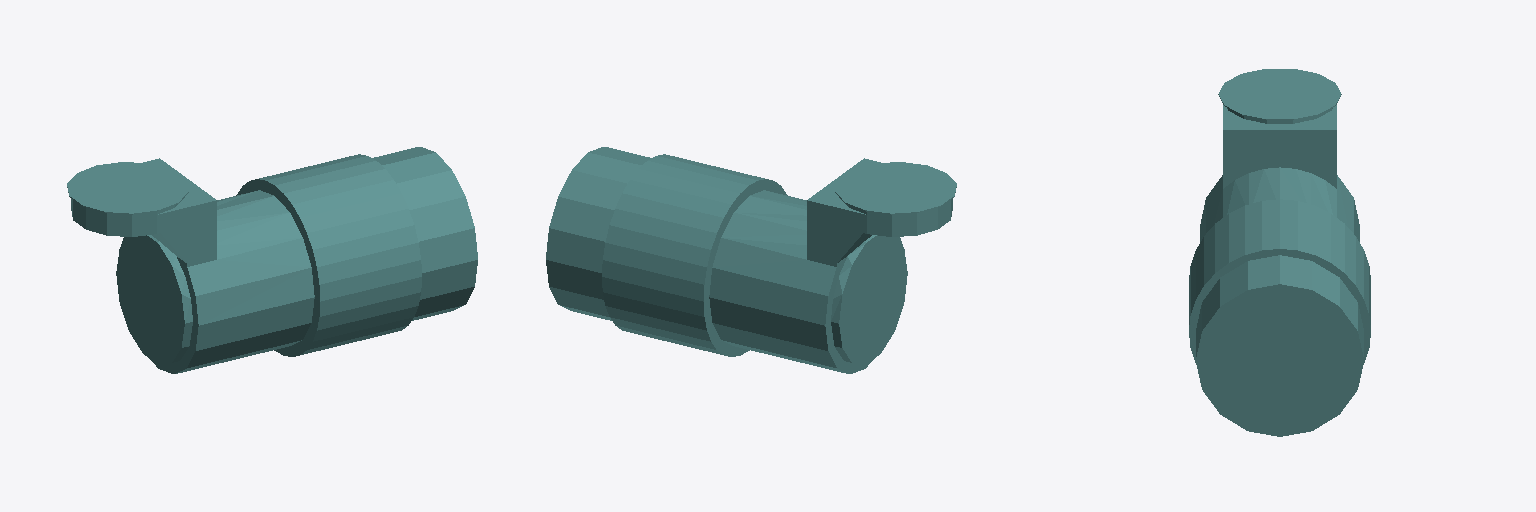
File: LRO_SAS_Gimbal.obj
3 renders of one model, left to right at view 1: azimuth 30°, elevation 25°; view 2: azimuth 150°, elevation 25°; view 3: azimuth 270°, elevation 25°, orthographic.
Visible parts, largest first — view 1: SAS_Gimbal; view 2: SAS_Gimbal; view 3: SAS_Gimbal.
Part boxes in pixels (x1,y1,x2,y2): SAS_Gimbal: (67, 147, 477, 373); SAS_Gimbal: (546, 147, 956, 373); SAS_Gimbal: (1189, 69, 1370, 436).
Size of the model in its own units: 0.4805 by 0.2536 by 0.2108.